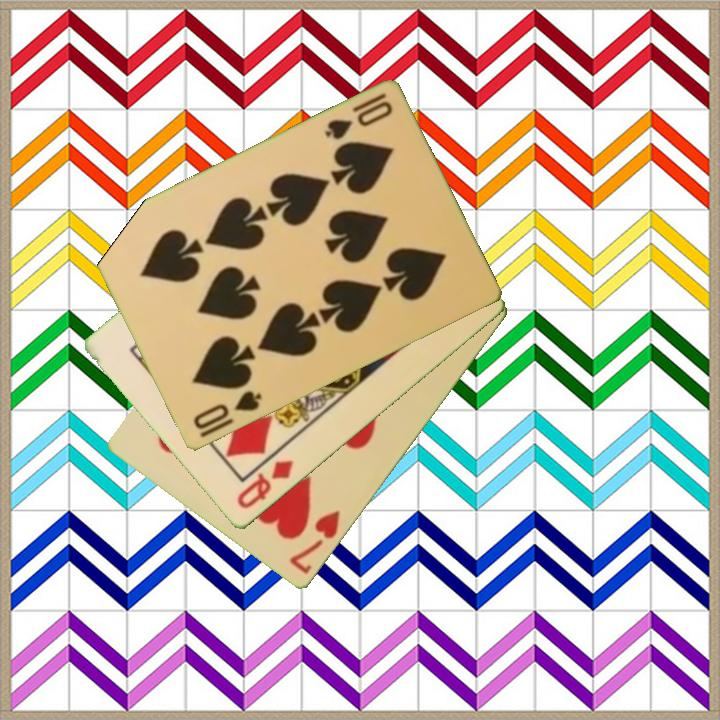10s: (189, 387, 265, 441), (320, 90, 396, 144)
7h: (285, 507, 344, 578)
Qd: (233, 456, 297, 513)
